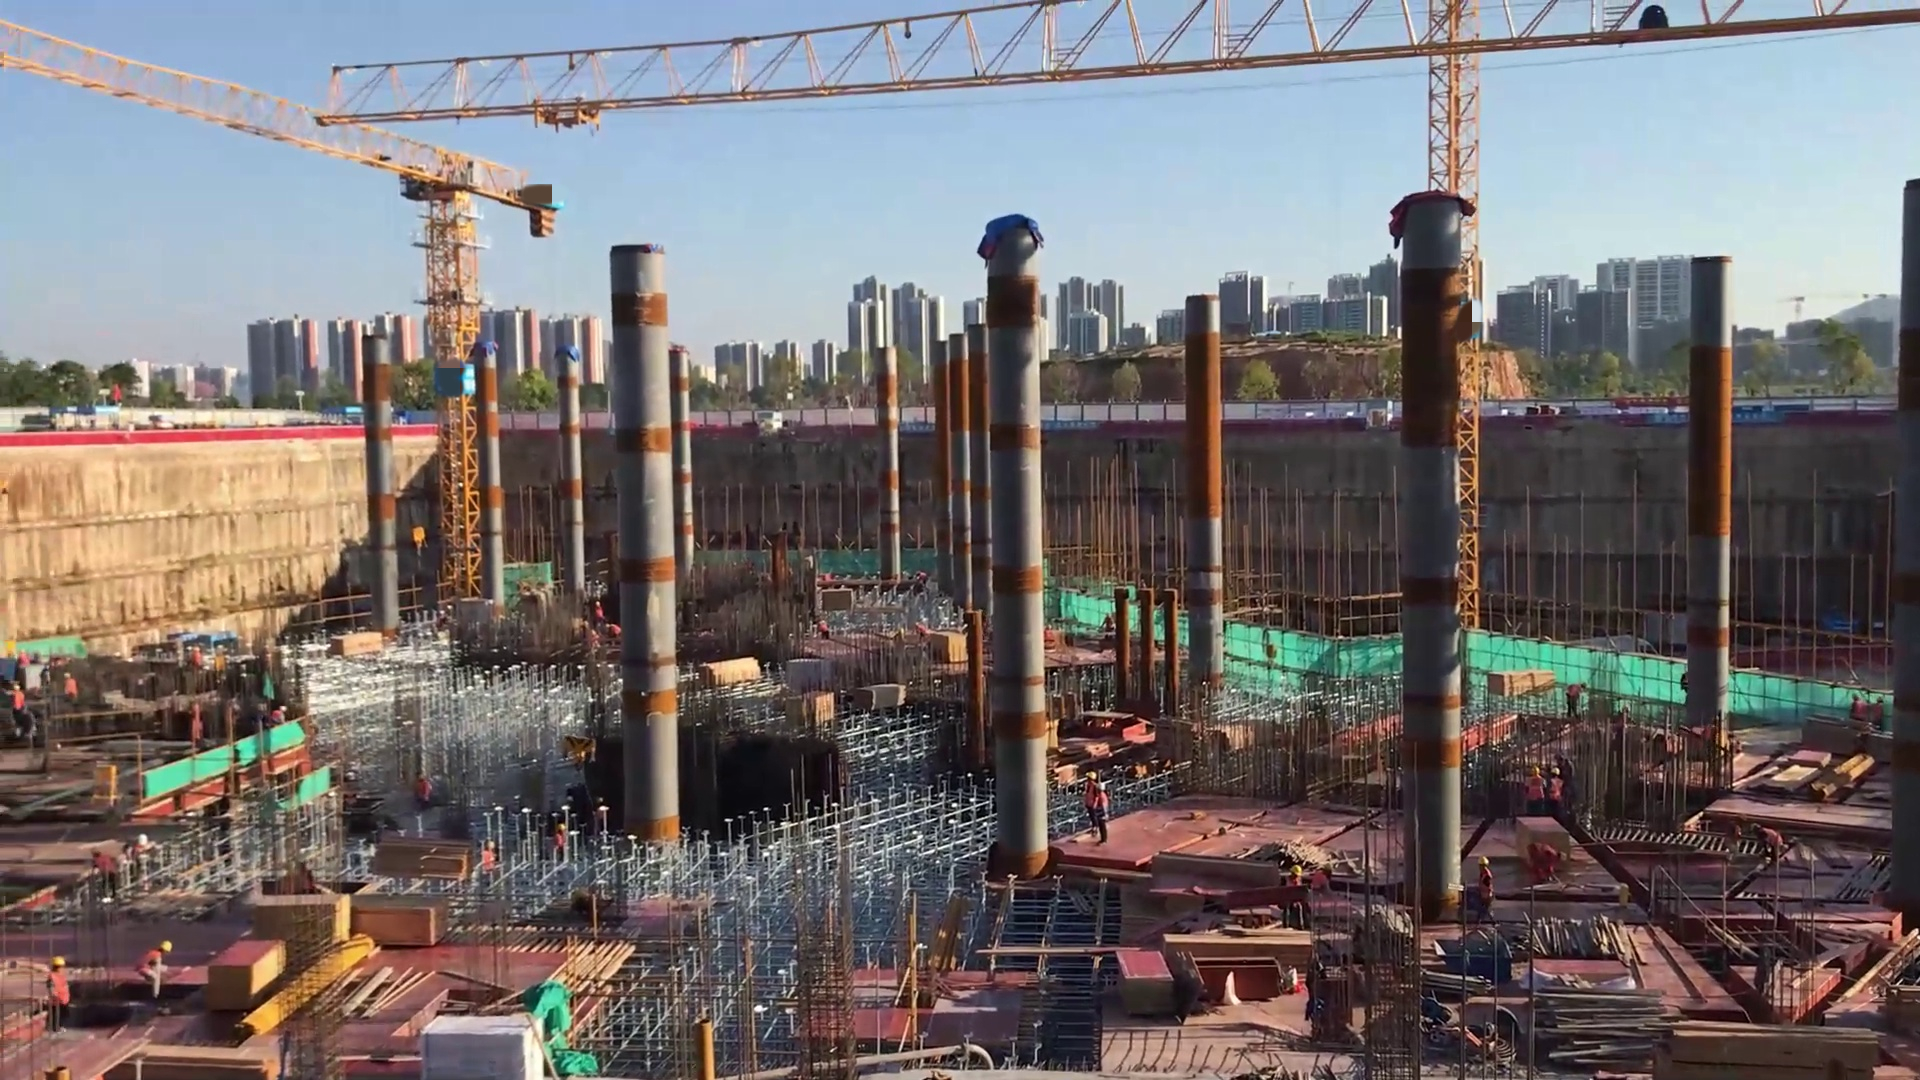board: (248, 891, 356, 958), (206, 934, 291, 1011), (1118, 945, 1178, 1021), (933, 629, 968, 666)
ebox: (87, 759, 119, 817)
helmet: (154, 937, 177, 957), (136, 831, 153, 849), (50, 953, 69, 971), (1477, 854, 1490, 872), (482, 837, 497, 852), (1289, 865, 1301, 881), (1556, 850, 1570, 864), (1528, 764, 1540, 779), (555, 824, 568, 837), (1548, 767, 1561, 780), (64, 670, 76, 684), (10, 684, 24, 696), (279, 702, 290, 714), (1323, 862, 1333, 874), (1578, 680, 1588, 690), (595, 598, 603, 608)
hook: (1431, 931, 1522, 980), (402, 523, 433, 557)
person: (44, 953, 73, 1037), (138, 939, 175, 1004), (1523, 841, 1573, 887), (88, 845, 122, 910), (1476, 856, 1499, 926), (127, 832, 153, 894), (1092, 779, 1114, 852), (1278, 860, 1303, 925), (1752, 821, 1785, 869), (477, 839, 504, 897), (9, 681, 30, 740), (1545, 763, 1568, 819), (1564, 679, 1589, 725), (62, 669, 85, 720), (551, 823, 575, 870), (1524, 767, 1546, 820), (1311, 861, 1335, 904), (1084, 767, 1099, 837), (266, 697, 291, 737), (1849, 692, 1870, 739), (415, 769, 435, 817), (1869, 696, 1888, 742), (16, 639, 34, 683), (812, 616, 834, 648), (190, 640, 203, 683), (593, 594, 606, 629), (914, 619, 931, 644), (606, 618, 623, 645)
slogan: (1650, 409, 1780, 426), (1042, 419, 1099, 431), (899, 420, 936, 432)
vest: (45, 968, 70, 1016), (137, 950, 164, 985), (1546, 776, 1567, 805), (1310, 870, 1329, 897), (1527, 776, 1543, 805), (1478, 871, 1493, 901)
wood: (1653, 1024, 1875, 1080), (1530, 988, 1670, 1071), (1161, 933, 1321, 974), (343, 892, 453, 947), (366, 836, 481, 880), (694, 655, 766, 694), (1484, 665, 1556, 701), (851, 679, 907, 715)
